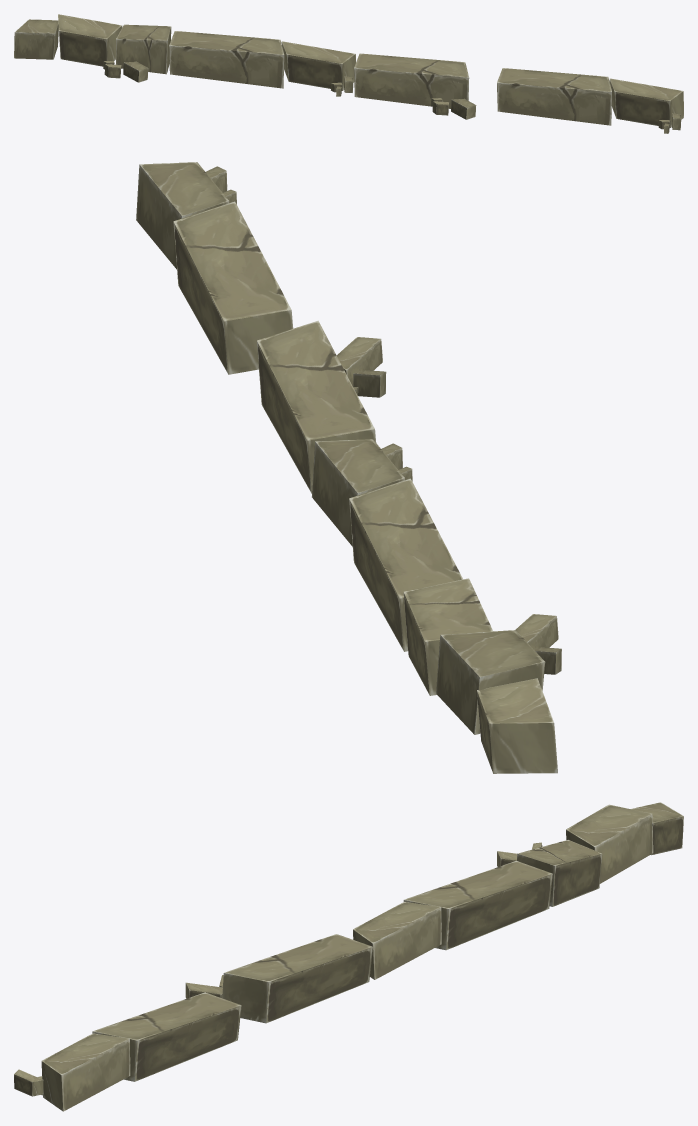
The model's file is wallrocks_diagonaltop1.fbx.
3 renders of one model, top to bottom at view 1: azimuth 30°, elevation 25°; view 2: azimuth 150°, elevation 25°; view 3: azimuth 270°, elevation 25°, orthographic. The views are drawn at different scales.
Visible parts, largest first — view 1: polySurface118; view 2: polySurface118; view 3: polySurface118.
Boxes of the visible parts, x1=… form: polySurface118: x1=14, y1=14, x2=683, y2=133; polySurface118: x1=136, y1=162, x2=561, y2=773; polySurface118: x1=14, y1=802, x2=683, y2=1111.
Bounding box in the file's own units: 2.12 × 0.1654 × 2.15.
